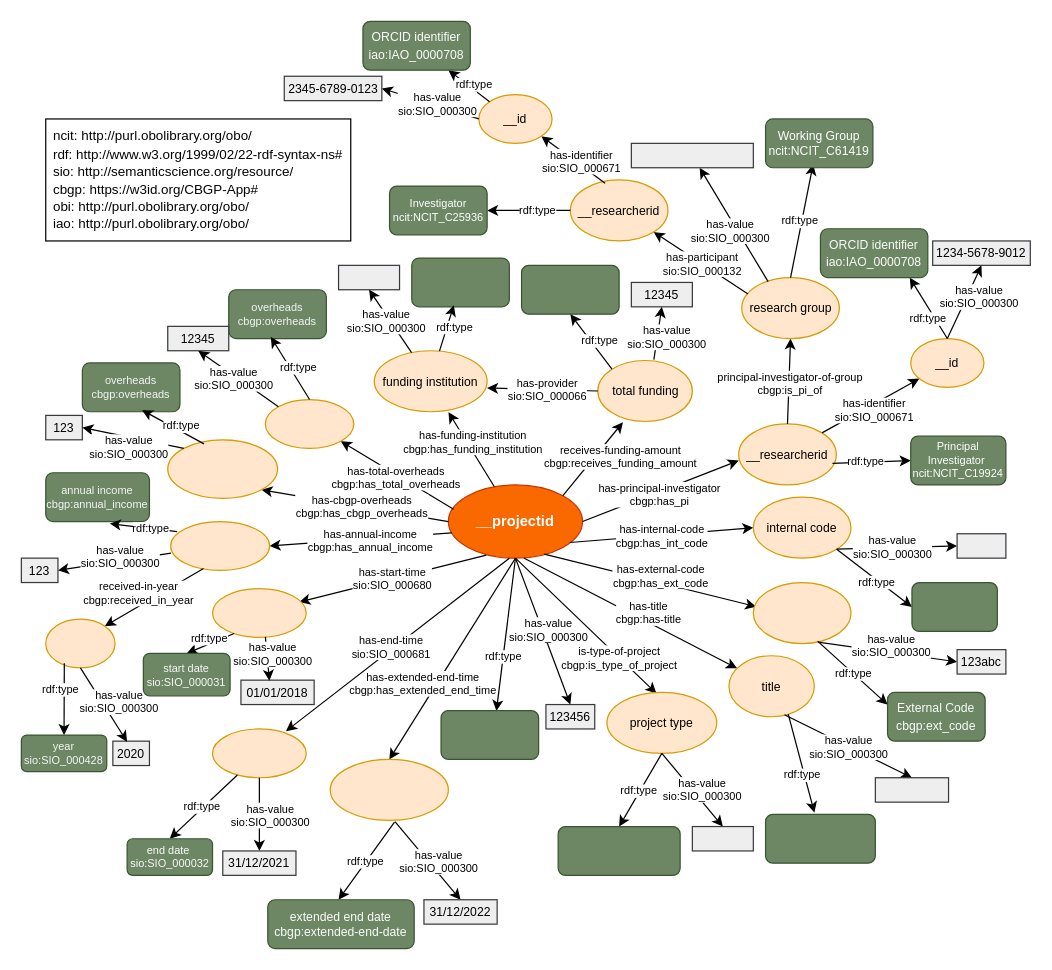
Image size: 1052x970. Some labels were removed from this diagram. Here are the shapes that lost their labels. From the top down, the centre of each, then its label:
the point at 691,155: piname_groupname
the point at 368,277: UPM
the point at 460,282: sponsor role obi: OBI_0000243
the point at 569,289: Funding ncit: NCIT_C17769
the point at 309,423: overheads
the point at 222,468: cbgp overheads
the point at 219,545: annual income
the point at 981,545: 456def
the point at 258,612: start date
the point at 801,612: external code
the point at 954,606: Internal Code cbgp:int_code
the point at 80,643: date
the point at 258,753: end date
the point at 489,734: Project ncit:NCIT_C47885
the point at 388,789: extended end date
the point at 911,789: ABCDFGH
the point at 618,850: Project Type ncit: NCIT_C165058
the point at 722,838: Nacional
the point at 819,838: Project Title cbgp:project_title
